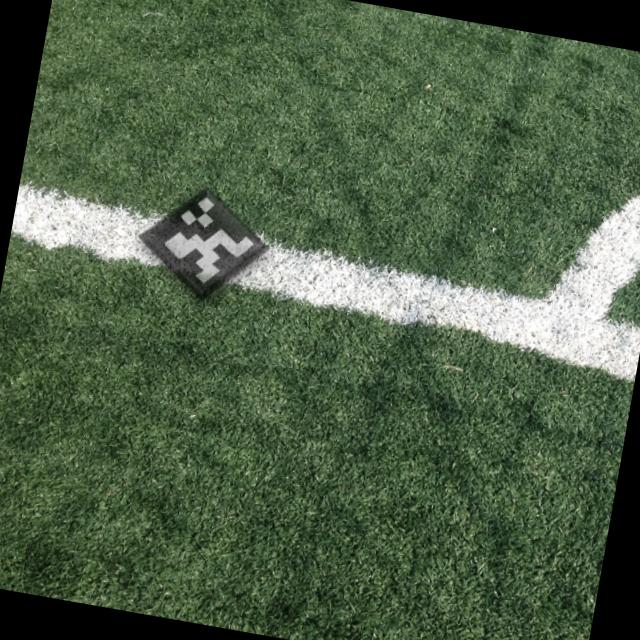marker: (121, 168, 280, 326)
